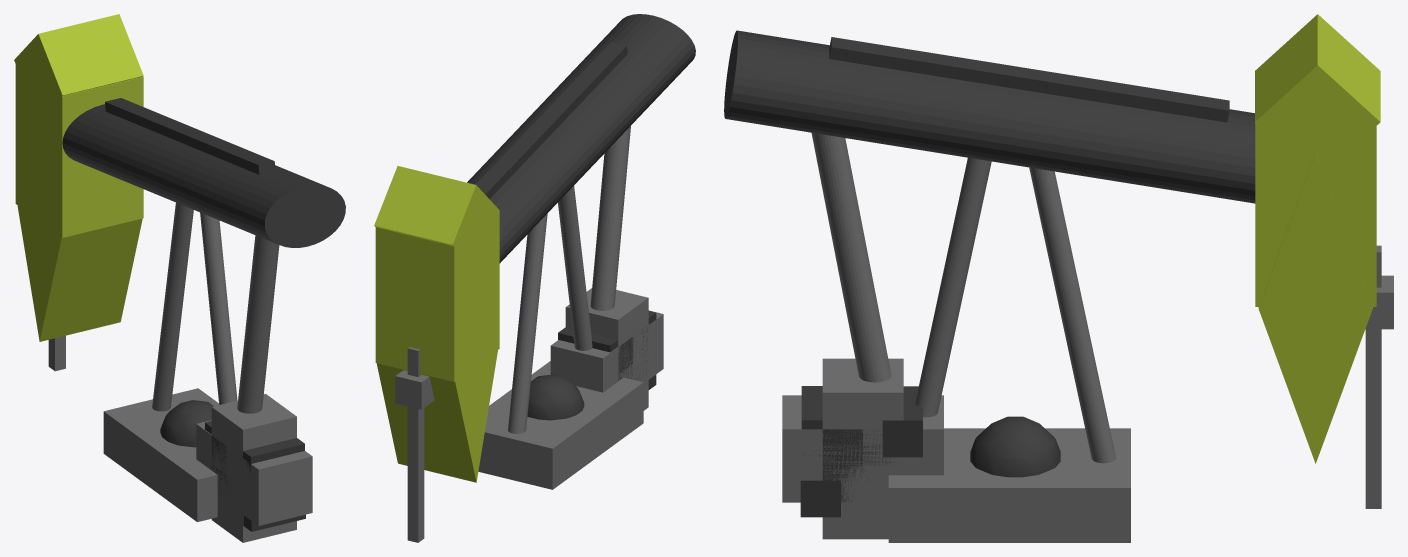
The model's file is oilpump.fbx.
3 views of the same model, side by side, from view 1: azimuth 30°, elevation 25°; view 2: azimuth 150°, elevation 25°; view 3: azimuth 270°, elevation 25° (orthographic). The views are drawn at different scales.
Parts seen in each view (by area): view 1: Cylinder.002, Cube.003, Cube.002, Cube, Cube.001, Cube.005, Cylinder.003, Cube.008, Cylinder, Cylinder.001, Cube.014, Cube.004 (+4 smaller); view 2: Cylinder.002, Cube.003, Cube, Cube.002, Cube.001, Cylinder.003, Cube.014, Cylinder, Cylinder.001, Cube.007, Cube.013, Cube.008 (+6 smaller); view 3: Cylinder.002, Cube, Cube.002, Cube.001, Cube.003, Cube.014, Cylinder.003, Cylinder, Cylinder.001, Cube.008, Mball, Cube.004 (+8 smaller).
Part boxes in pixels (x1,y1,x2,y2): Cylinder.002: [62, 104, 345, 247]; Cube.003: [15, 63, 143, 237]; Cube.002: [17, 205, 142, 341]; Cube: [103, 388, 218, 521]; Cube.001: [14, 14, 143, 121]; Cube.005: [227, 447, 312, 525]; Cylinder.003: [237, 235, 279, 413]; Cube.008: [211, 394, 296, 485]; Cylinder: [152, 202, 193, 411]; Cylinder.001: [200, 212, 237, 404]; Cube.014: [105, 98, 275, 174]; Cube.004: [211, 464, 296, 542]; Cylinder.002: [467, 14, 695, 263]; Cube.003: [375, 212, 499, 381]; Cube: [478, 361, 643, 489]; Cube.002: [376, 350, 497, 482]; Cube.001: [374, 166, 499, 269]; Cylinder.003: [590, 126, 630, 310]; Cube.014: [475, 42, 627, 198]; Cylinder: [508, 213, 547, 433]; Cylinder.001: [558, 186, 592, 350]; Cube.007: [550, 338, 632, 392]; Cube.013: [407, 347, 424, 542]; Cube.008: [565, 288, 648, 363]; Cylinder.002: [724, 30, 1255, 203]; Cube: [888, 428, 1130, 542]; Cube.002: [1258, 153, 1372, 463]; Cube.001: [1255, 14, 1380, 173]; Cube.003: [1255, 123, 1376, 306]; Cube.014: [829, 37, 1229, 122]; Cylinder.003: [811, 132, 891, 382]; Cylinder: [1029, 167, 1115, 463]; Cylinder.001: [915, 157, 991, 417]; Cube.008: [822, 358, 903, 465]; Mball: [970, 416, 1060, 477]; Cube.004: [822, 466, 903, 539].
Bounding box in the file's own units: 350 × 1320 × 1657.
